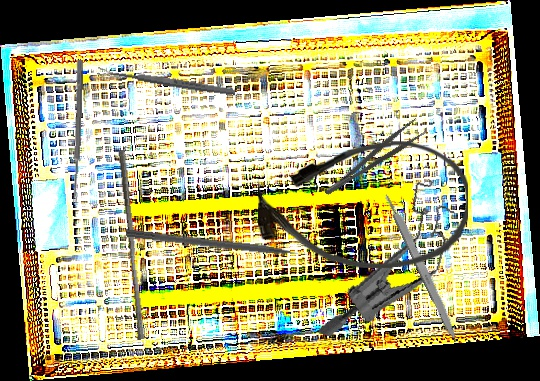Cannula: (256, 140, 470, 270)
Dressing Forceps: (317, 116, 428, 199)
Pusher: (110, 149, 152, 341), (125, 228, 317, 263)
Scalpel Handle: (383, 191, 462, 344)
Speculum: (315, 161, 465, 360)
Surgical Spoon: (97, 66, 236, 97), (71, 59, 84, 204)
